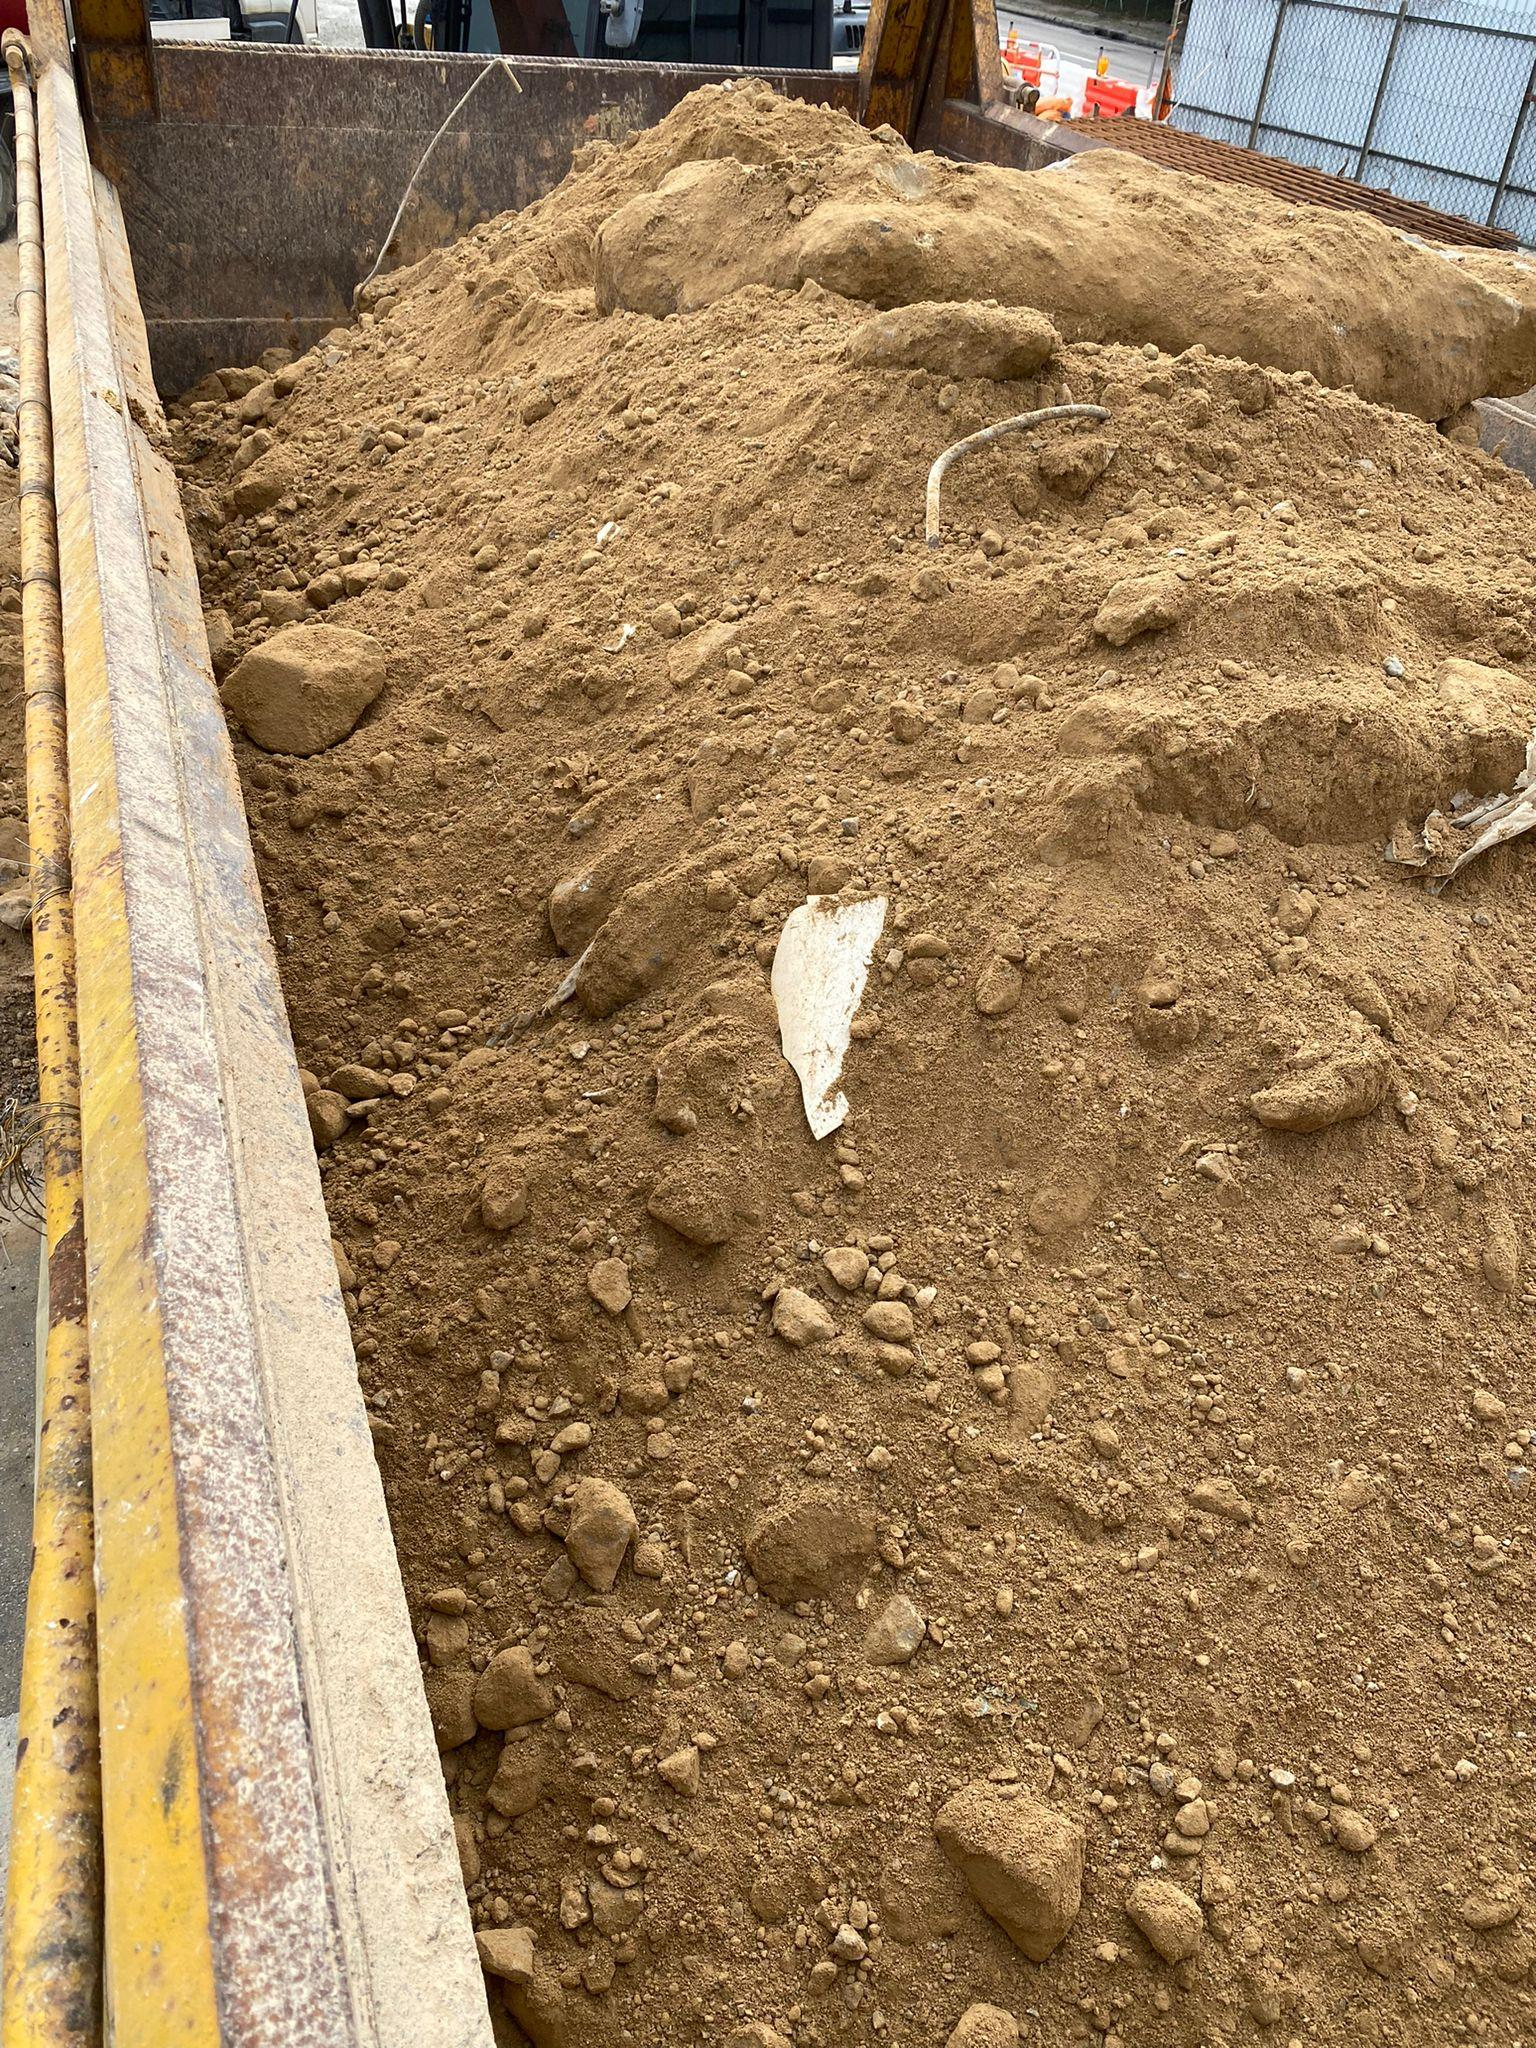dry: (181, 94, 1536, 2037)
